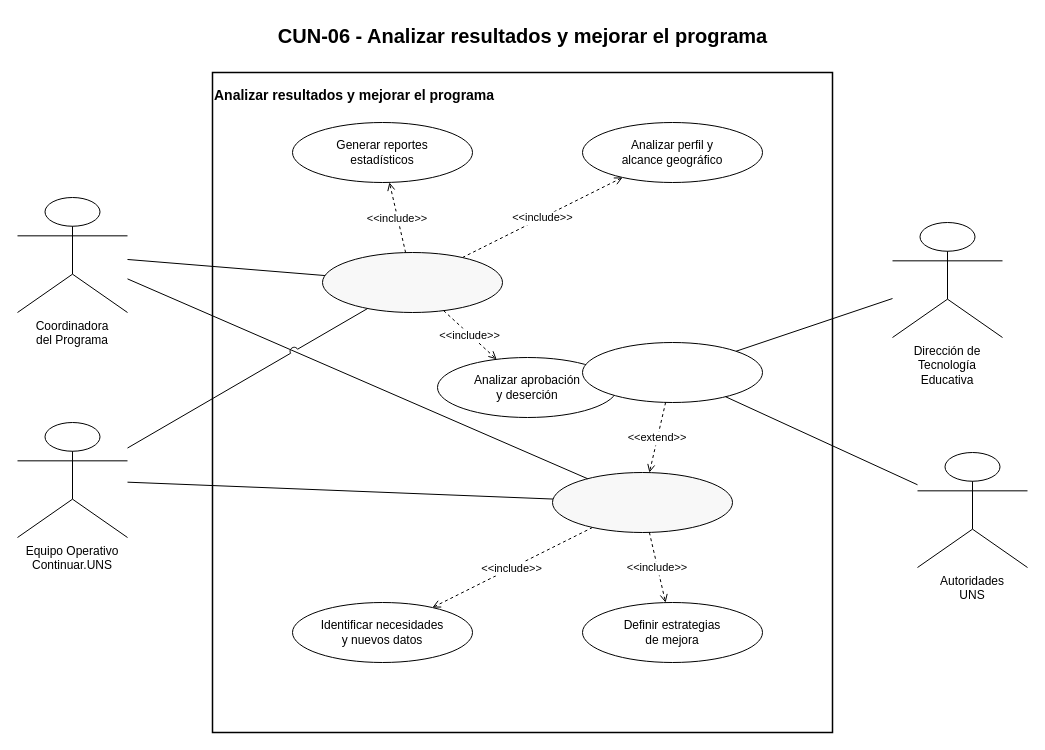
Some shapes in this 1045 by 750 pixel diagram are drawn without their labels. Each missing label, with the centre of its shape:
"Analizar desempeño del programa" belongs at (x=412, y=282).
"Definir mejora estratégica" belongs at (x=642, y=502).
"Planificar crecimiento EaD" belongs at (x=672, y=372).
